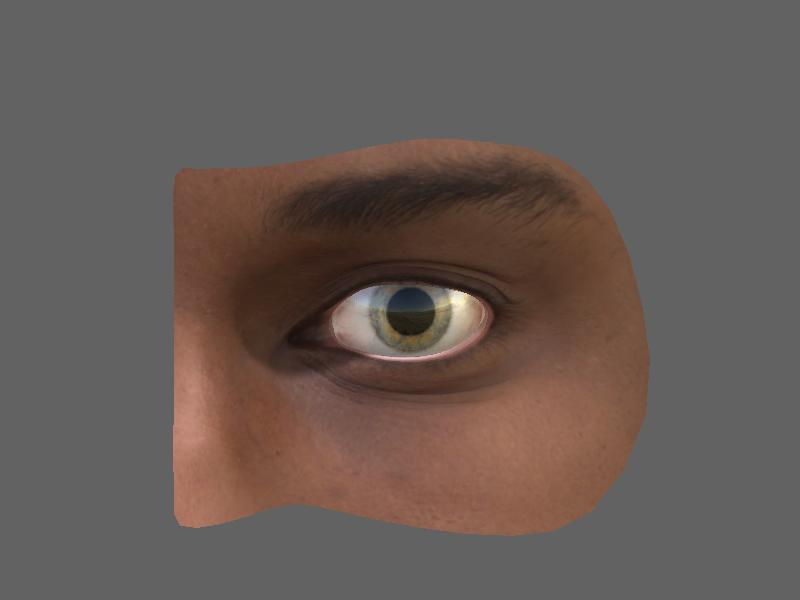iris: (361, 285, 456, 355)
